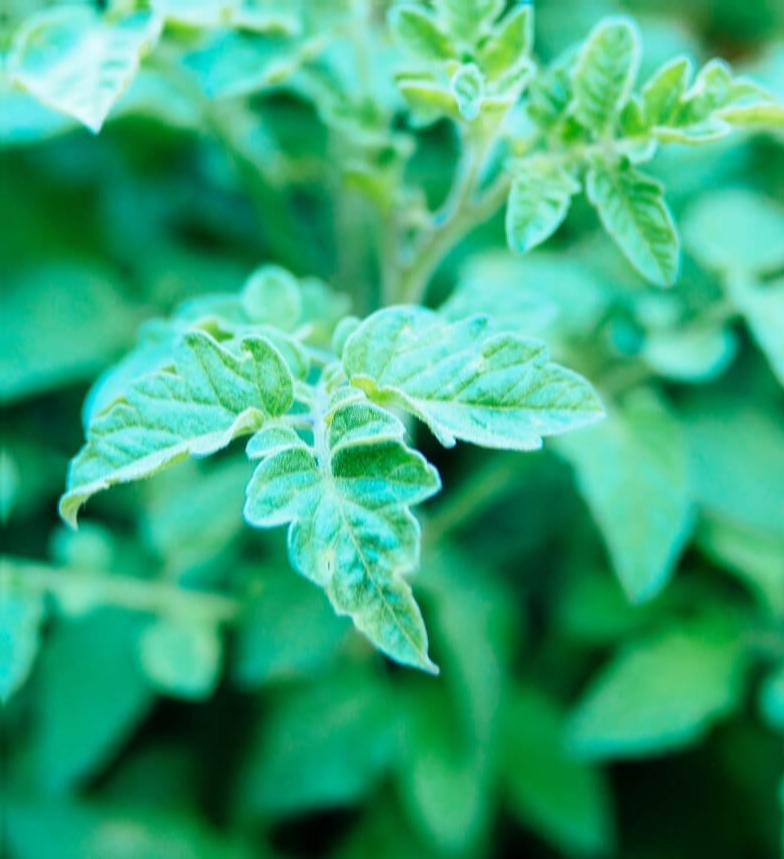Tomato leaf: (33, 291, 325, 525), (265, 374, 463, 702), (323, 301, 597, 468)
